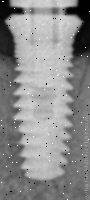AMerOss: (6, 6, 90, 181)
